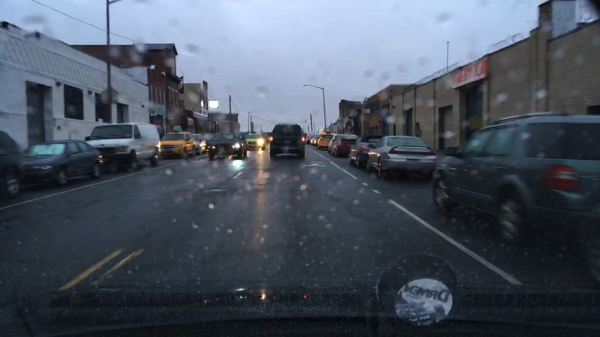car: (431, 111, 599, 247), (22, 140, 104, 187), (85, 123, 161, 169), (367, 135, 436, 180), (0, 130, 21, 200), (349, 134, 384, 169), (270, 124, 305, 158), (209, 132, 248, 162), (161, 131, 196, 158), (330, 134, 359, 158), (245, 134, 266, 151), (316, 133, 334, 150), (192, 134, 206, 155), (328, 134, 338, 153), (264, 132, 272, 144), (313, 134, 319, 147), (206, 140, 211, 152), (306, 135, 310, 144), (310, 136, 314, 145)
traffic sign: (101, 88, 118, 105), (363, 109, 370, 114), (319, 127, 323, 132)
